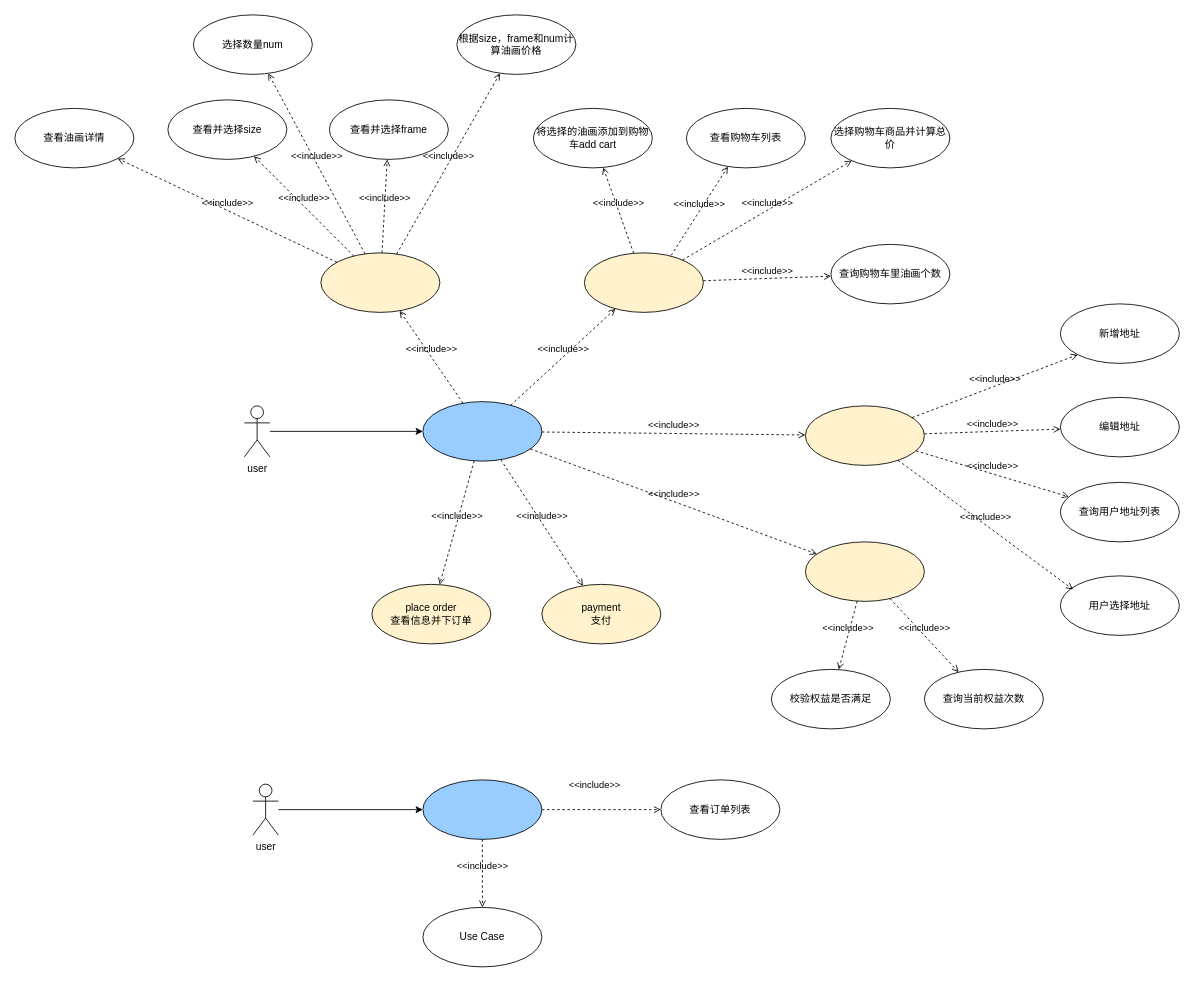
Some shapes in this 1194 by 982 pixel diagram are drawn without their labels. The shapes that lost their labels are listed below. From the top down, each one's centre as x and y in pixels, then its label:
At (x=380, y=282): "查看并选择油画".
At (x=643, y=282): "add to cart 购物车管理".
At (x=482, y=431): "购买商品".
At (x=864, y=435): "shipping 地址管理".
At (x=864, y=571): "权益管理".
At (x=482, y=809): "my order 订单中心".
